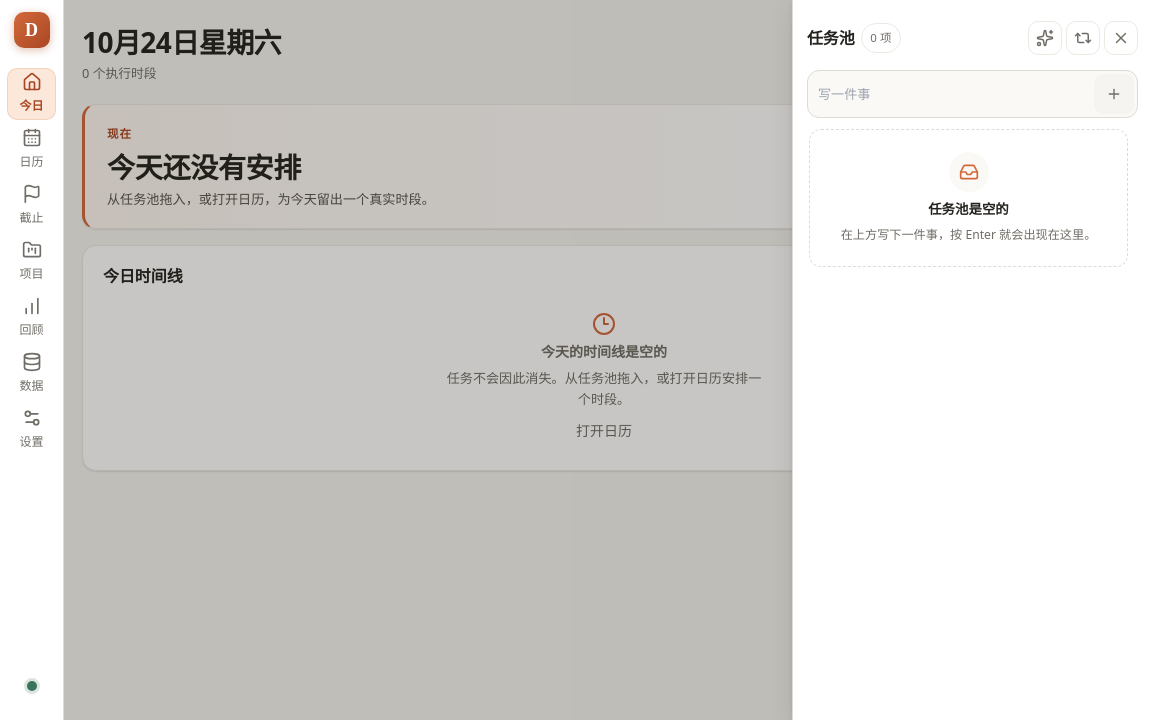
Scenario: phase 1 manual alpha › creates a title-only task through the durable API and keeps one visible card
The width and height of the screenshot is (1152, 720).
Type "整理 Alpha 反馈" into the field named "任务标题" at (953, 94), box [818,76,1088,112]
Then press Enter
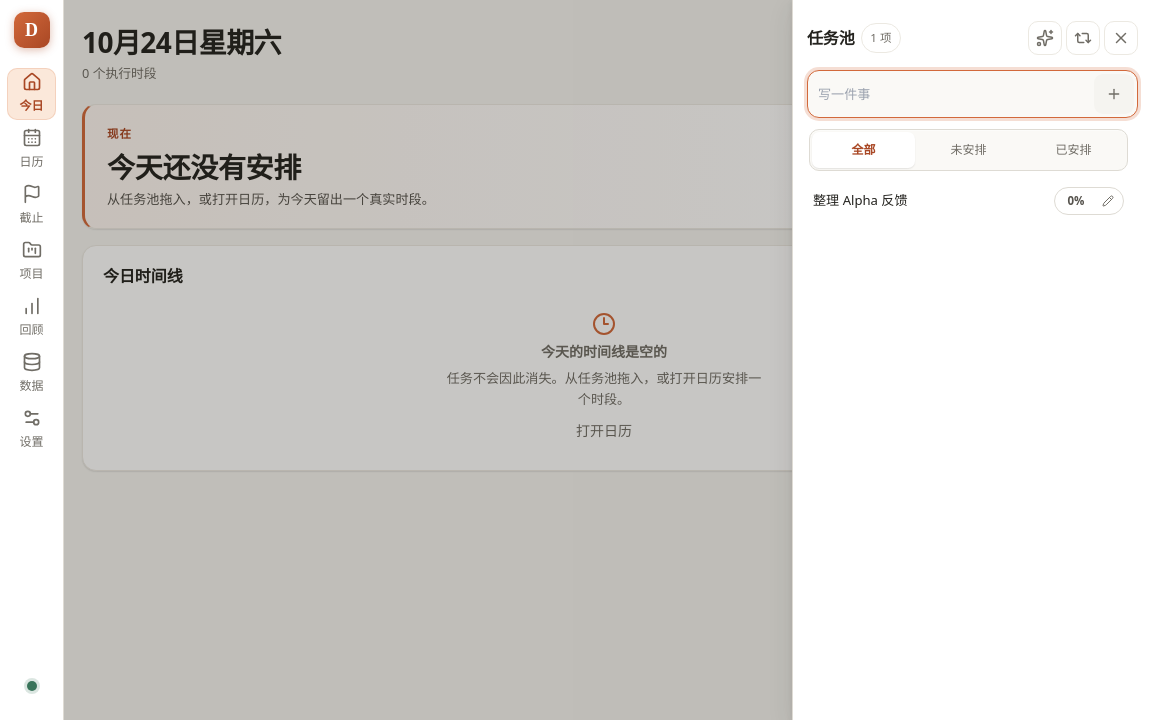
Result: the text "整理 Alpha 反馈" is shown at [813,191,908,209]
